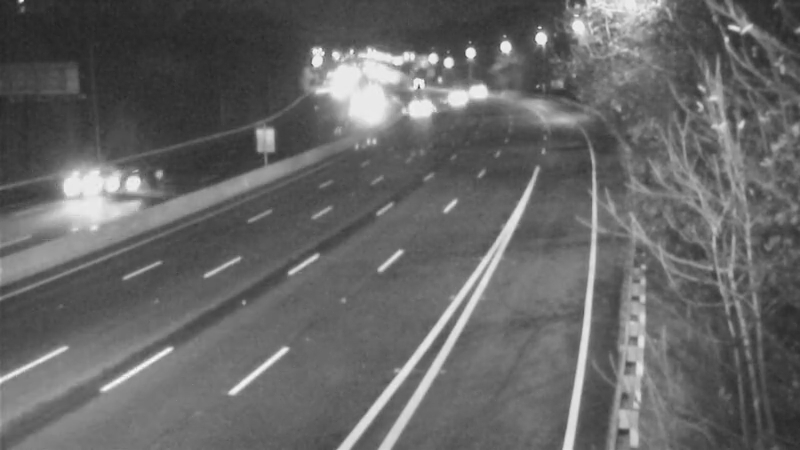vehicle: (77, 145, 157, 225), (48, 147, 128, 227), (391, 56, 441, 106), (451, 60, 501, 110), (430, 71, 480, 121), (396, 81, 446, 131)
